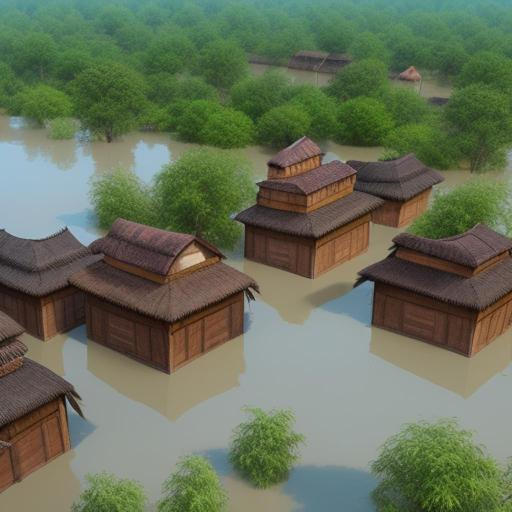flood: (0, 225, 512, 512), (0, 113, 196, 244), (250, 64, 335, 87), (320, 140, 384, 162), (241, 145, 278, 180), (486, 151, 512, 179), (440, 169, 479, 187), (422, 79, 453, 96)
house: (70, 217, 262, 377), (352, 210, 512, 358), (228, 134, 390, 280), (0, 308, 88, 494), (0, 225, 104, 345), (349, 149, 448, 229)
